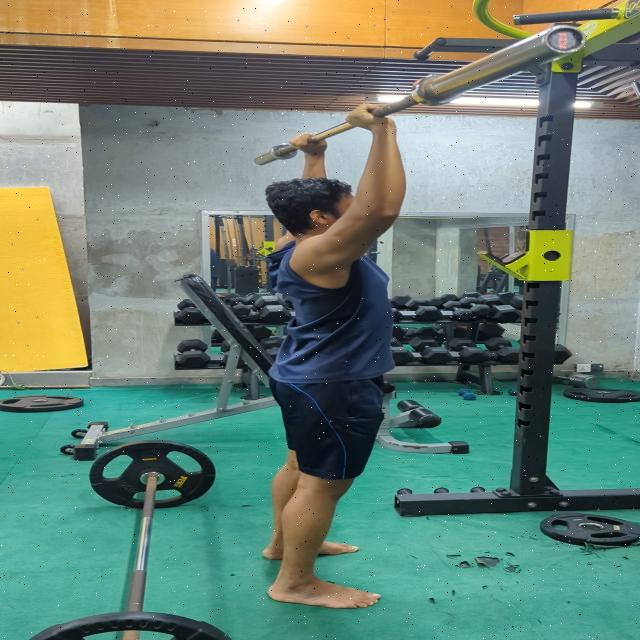Normal_OverheadPress: (240, 95, 441, 628)
